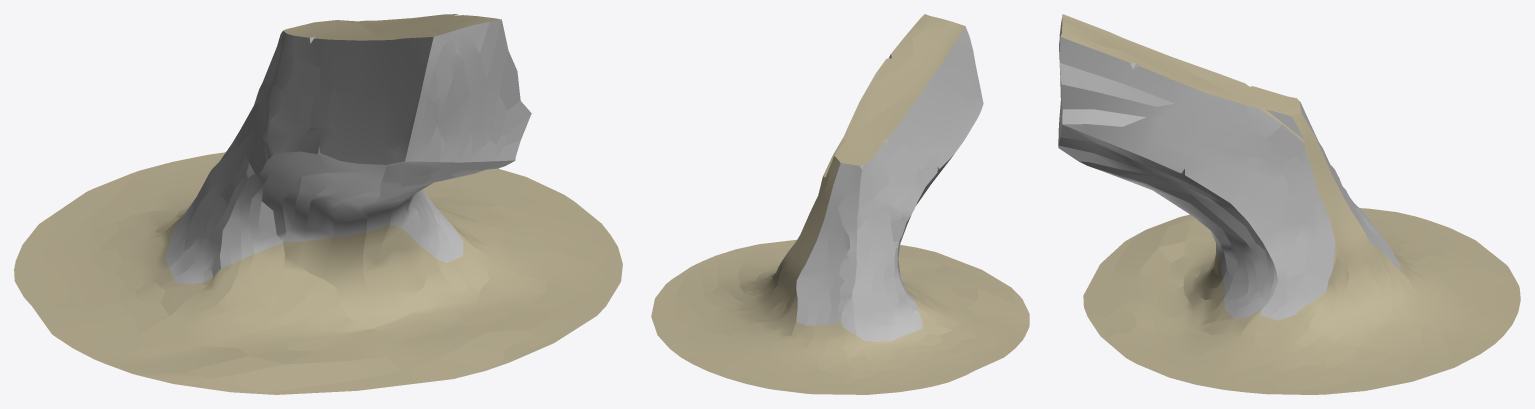
File: rock_beach_hero_B.fbx
The picture shows the model from 3 angles, left to right: view 1: azimuth 30°, elevation 25°; view 2: azimuth 150°, elevation 25°; view 3: azimuth 270°, elevation 25°; orthographic projection. The views are drawn at different scales.
Visible parts, largest first — view 1: rock_beach_hero_B; view 2: rock_beach_hero_B; view 3: rock_beach_hero_B.
Boxes of the visible parts, box(x1,y1,x2,y2) form: rock_beach_hero_B: box(14, 14, 622, 394); rock_beach_hero_B: box(651, 14, 1029, 394); rock_beach_hero_B: box(1058, 14, 1520, 394).
Size of the model in its own units: 455 by 299 by 462.
